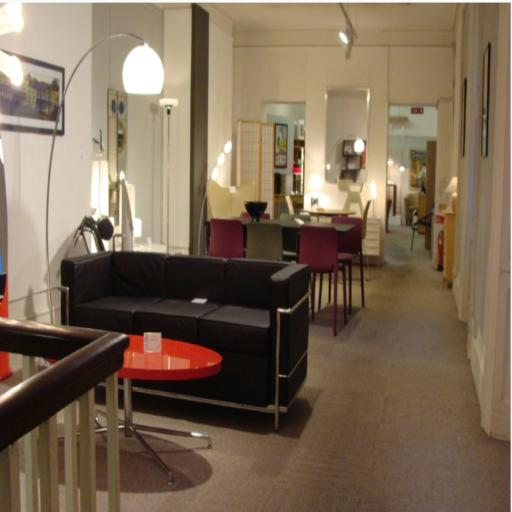bottle: (299, 224, 347, 336), (208, 218, 244, 258)
hole: (61, 252, 310, 428)
phone: (209, 194, 369, 254)
